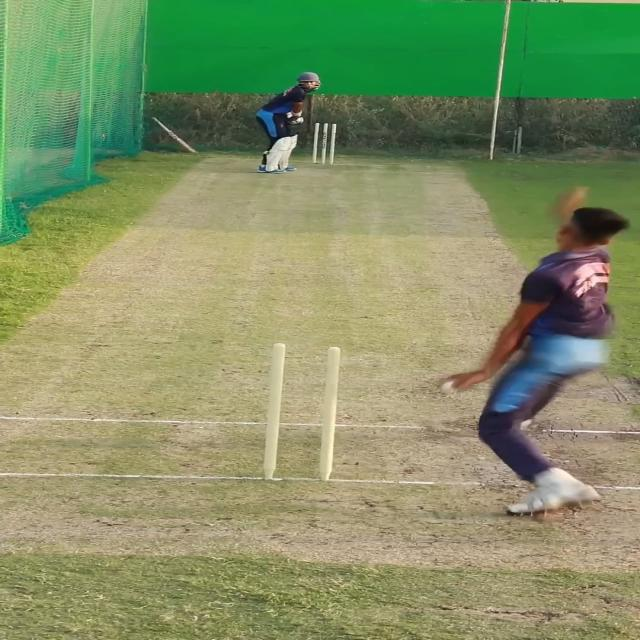stump: (262, 342, 344, 480), (312, 122, 338, 164)
